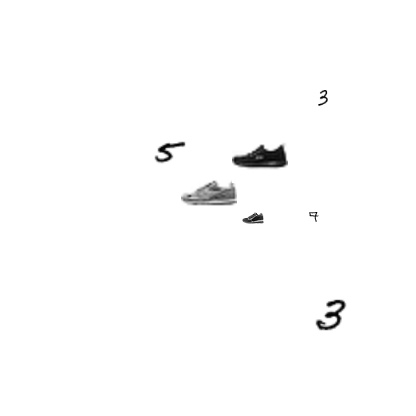3: (310, 294, 352, 336), (312, 86, 334, 108)
5: (146, 130, 188, 172)
7: (307, 208, 321, 222)
Sneaker: (181, 165, 237, 221), (232, 127, 288, 183), (242, 207, 264, 229)
